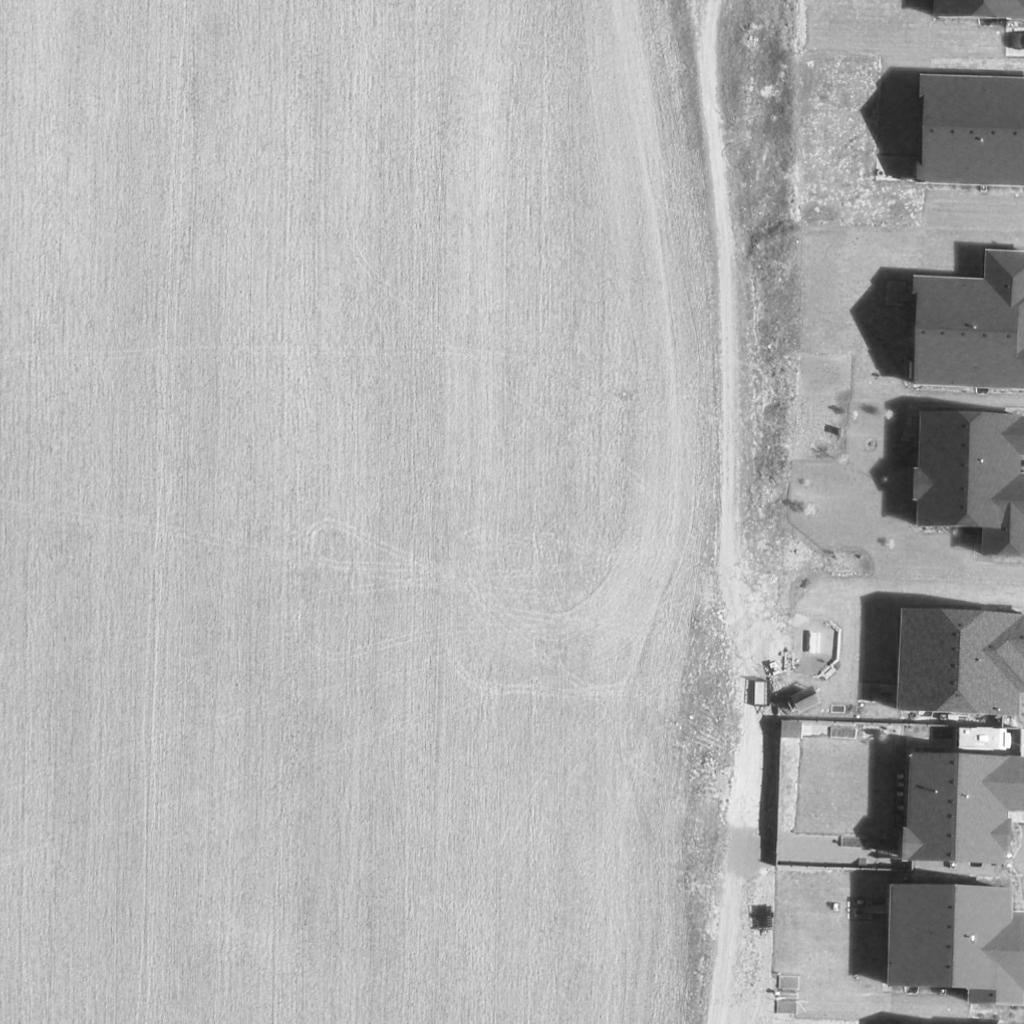vehicle: (958, 726, 1014, 754)
